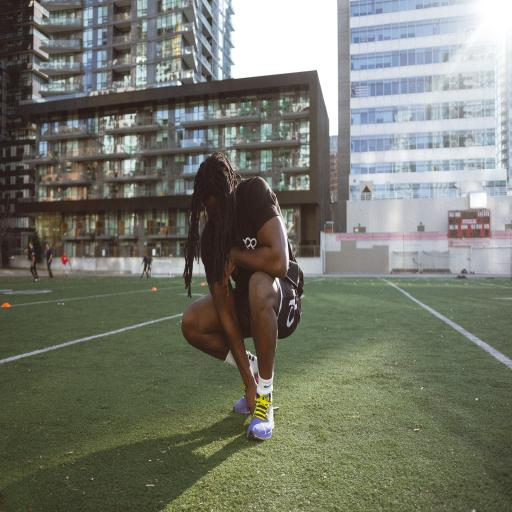shoe: (248, 394, 274, 439), (234, 383, 250, 413)
